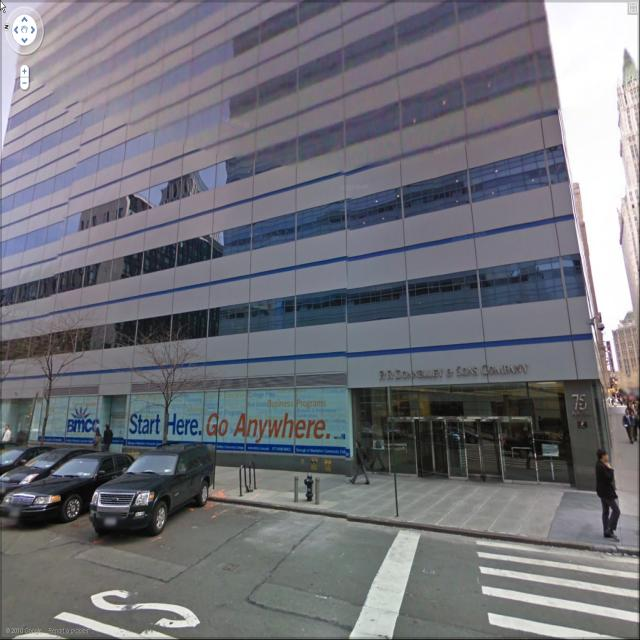b_1: (1, 5, 616, 445), (611, 47, 640, 275), (615, 313, 638, 412)
b_2: (6, 1, 593, 430)
